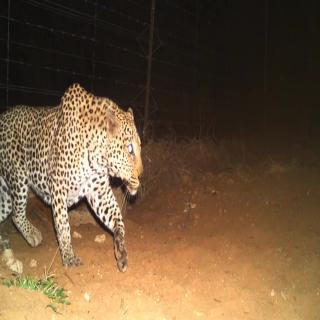Leopard: (0, 68, 150, 273)
